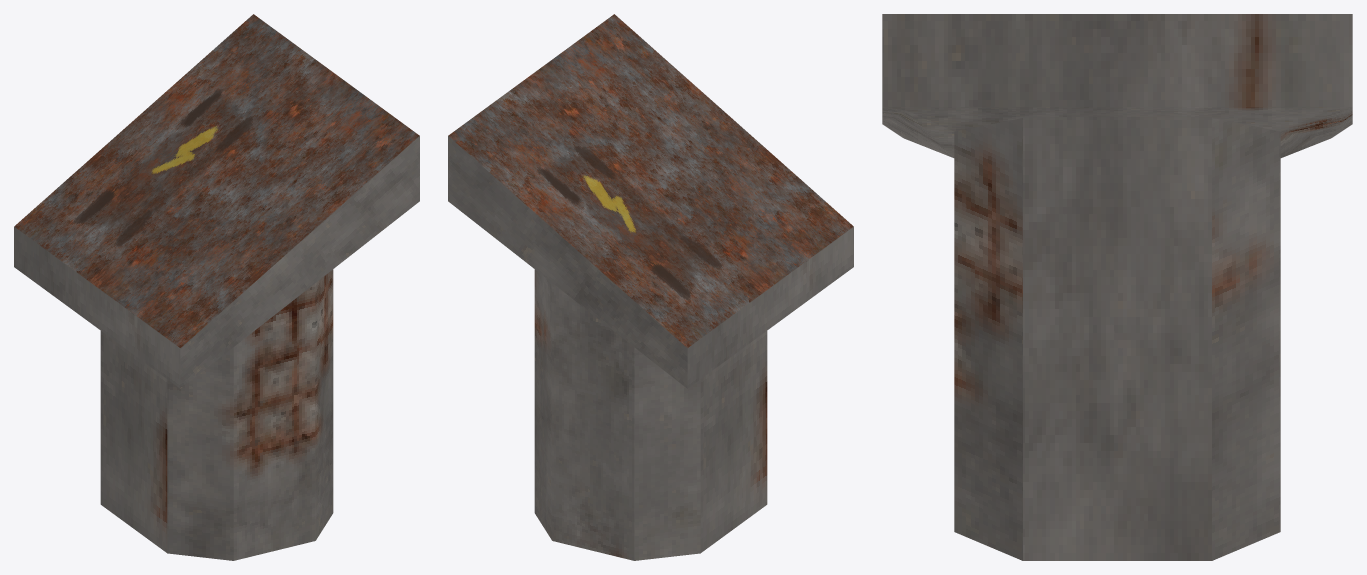
File: stand.glb
The picture shows the model from 3 angles, left to right: view 1: azimuth 30°, elevation 25°; view 2: azimuth 150°, elevation 25°; view 3: azimuth 270°, elevation 25°; orthographic projection. The views are drawn at different scales.
Visible parts, largest first — view 1: Stand; view 2: Stand; view 3: Stand.
Part boxes in pixels (x1,y1,x2,y2): Stand: (14,14,419,560); Stand: (448,14,853,560); Stand: (882,14,1352,560).
Size of the model in its own units: 0.8729 by 1.41 by 1.05.
Materials: 2 (2 with a texture image).
